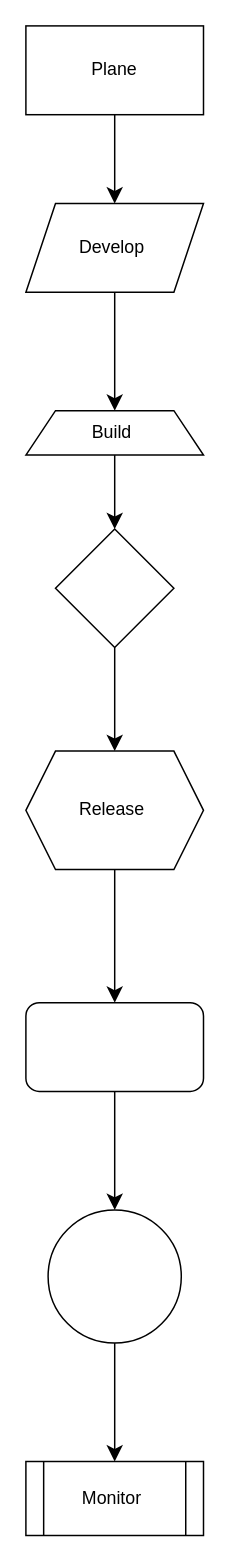
Some shapes in this 229 by 1561 pixel diagram are drawn without their labels. Here are the shapes that lost their labels. From the top down, the centre of each, then its label:
[114,588]: Test
[114,1046]: Deploy
[114,1275]: Opreate
